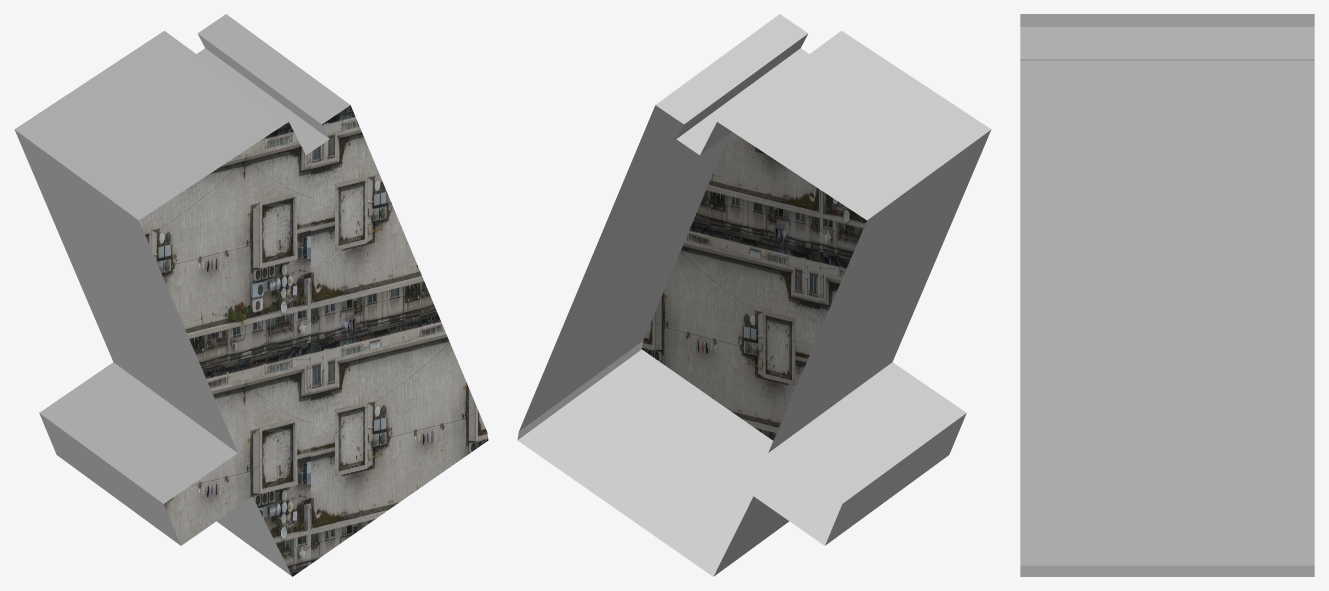
File: geospecific_1518.obj
3 views of the same model, side by side, from view 1: azimuth 30°, elevation 25°; view 2: azimuth 150°, elevation 25°; view 3: azimuth 270°, elevation 25° (orthographic). The views are drawn at different scales.
Visible parts, largest first — view 1: Building; view 2: Building; view 3: Building.
Part boxes in pixels (<box>): Building: <box>14,14,488,576</box>; Building: <box>517,14,991,576</box>; Building: <box>1020,14,1314,576</box>.
Bounding box in the file's own units: 19.47 × 24.35 × 12.
